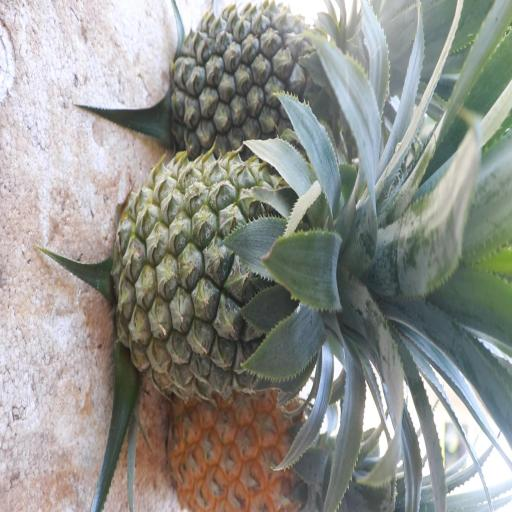------------------------------: (116, 150, 332, 383)
Pineapple - v8 v1: (169, 383, 337, 512)
